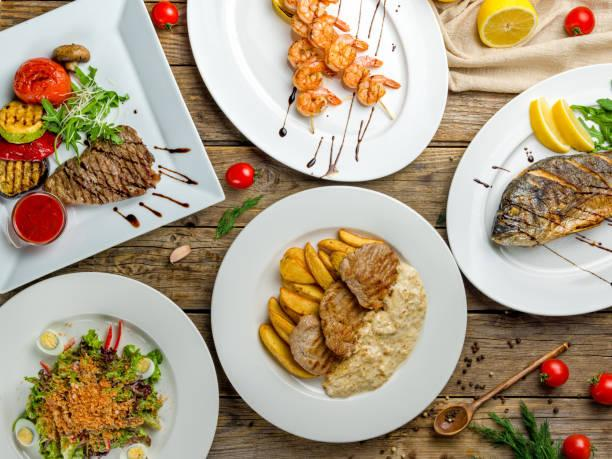Braised Crucian Carp: (2, 1, 223, 290), (215, 187, 468, 437), (184, 0, 453, 182), (449, 61, 612, 315), (0, 271, 219, 457)
